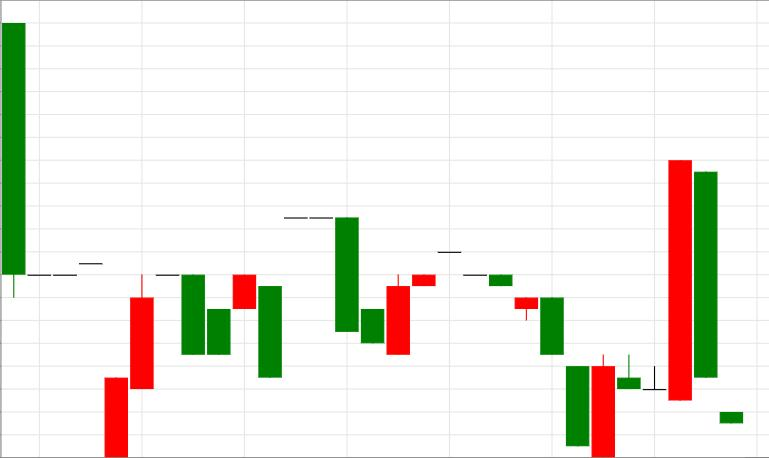bullish_engulfing_rise: (438, 251, 614, 458), (284, 216, 409, 356)
